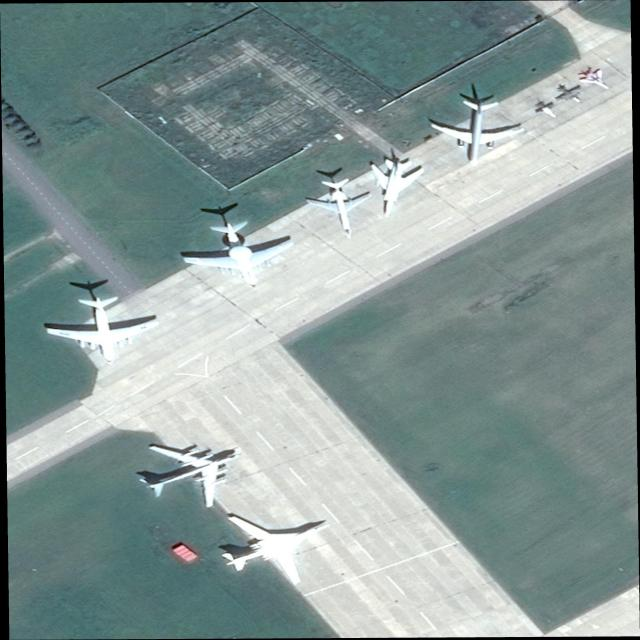plane: (196, 492, 366, 598), (121, 427, 267, 518), (173, 216, 313, 297), (43, 294, 169, 367), (426, 98, 526, 167), (302, 178, 382, 241), (358, 155, 429, 219), (546, 77, 594, 108), (573, 64, 618, 94), (525, 95, 568, 122)
